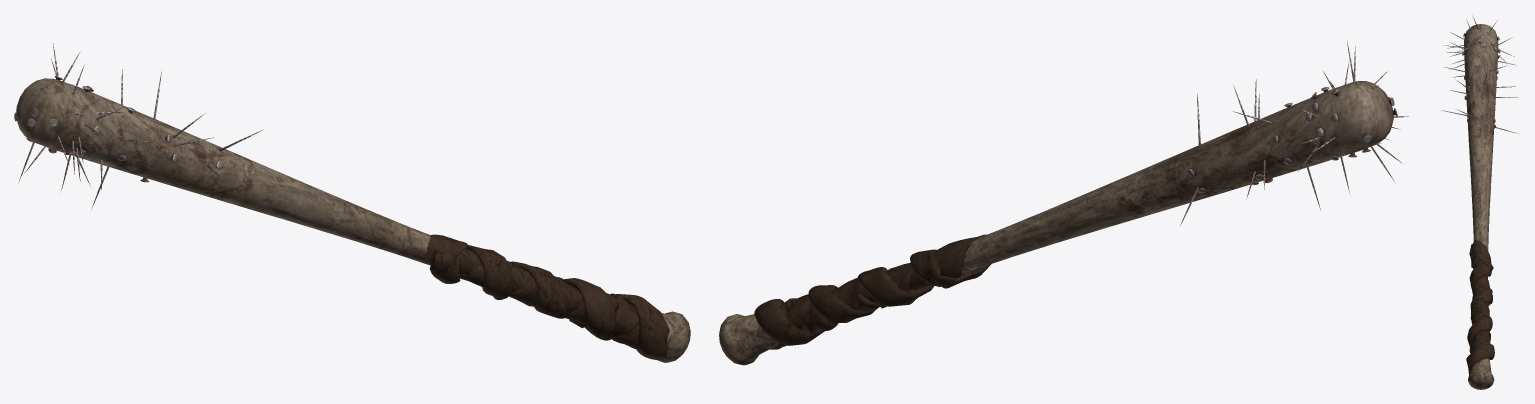
File: spiked_baseball_bat.glb
3 renders of one model, left to right at view 1: azimuth 30°, elevation 25°; view 2: azimuth 150°, elevation 25°; view 3: azimuth 270°, elevation 25°, orthographic. The views are drawn at different scales.
Visible parts, largest first — view 1: spiked_baseball_bat; view 2: spiked_baseball_bat; view 3: spiked_baseball_bat.
Part boxes in pixels (x1,y1,x2,y2): spiked_baseball_bat: [14, 43, 690, 362]; spiked_baseball_bat: [719, 41, 1408, 365]; spiked_baseball_bat: [1442, 17, 1517, 389].
Bounding box in the file's own units: 92.06 × 60.49 × 19.29.
3 materials, 3 textured.
